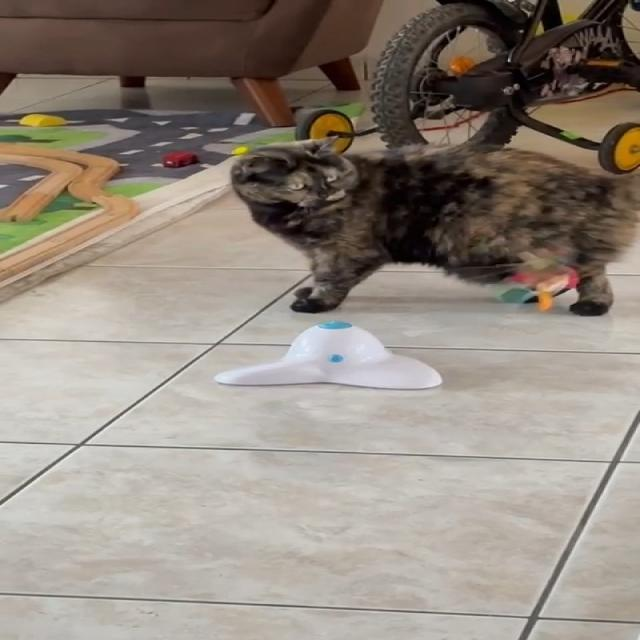authorized: (228, 132, 639, 316)
